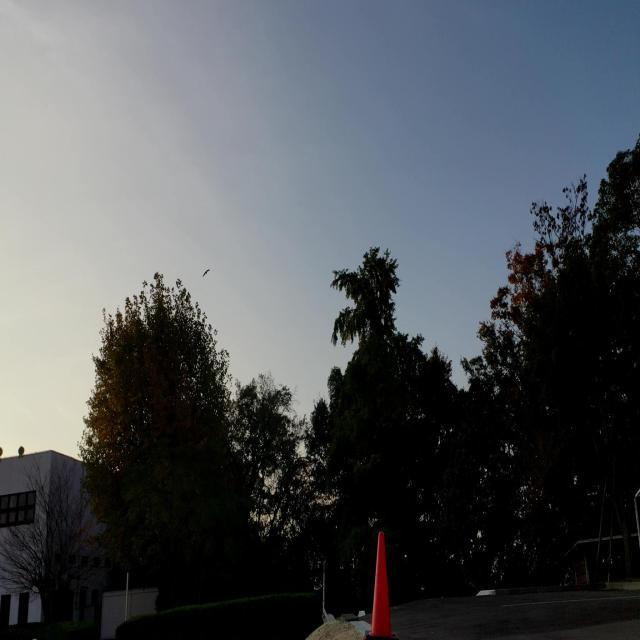Birds: (196, 254, 217, 288)
